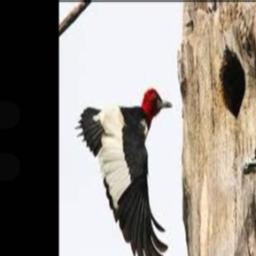Woodpecker: (74, 88, 171, 256)
